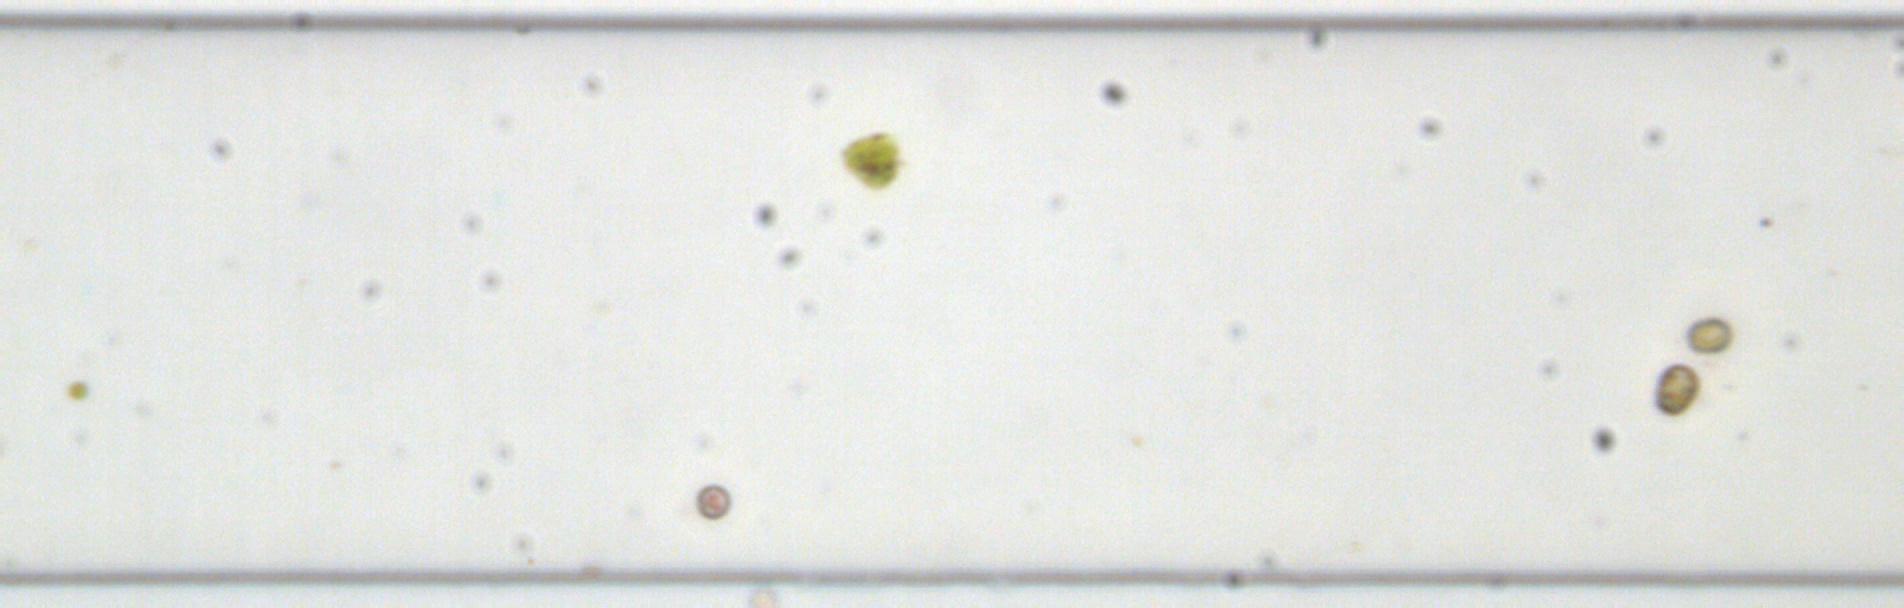Chlorella: (63, 376, 91, 403)
Effrenium: (1651, 360, 1701, 417), (1684, 314, 1733, 356)
Haematococcus: (837, 127, 903, 192)
Porphyridium: (695, 481, 730, 523)
